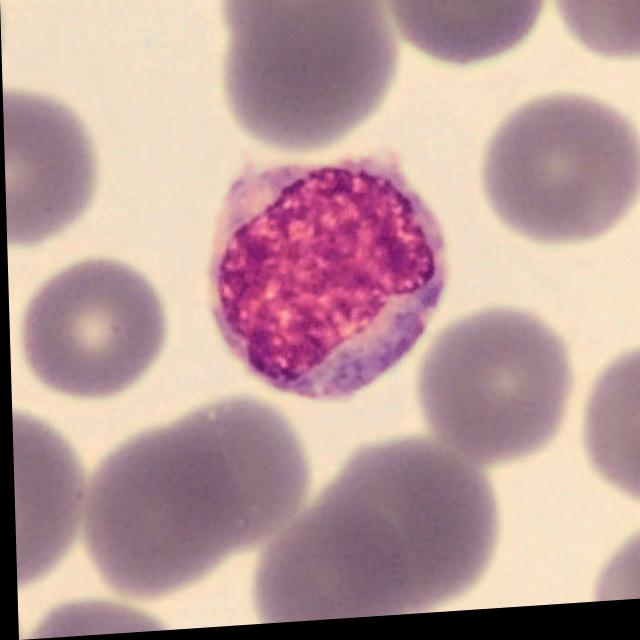Linfocito atipico: (207, 154, 447, 404)
